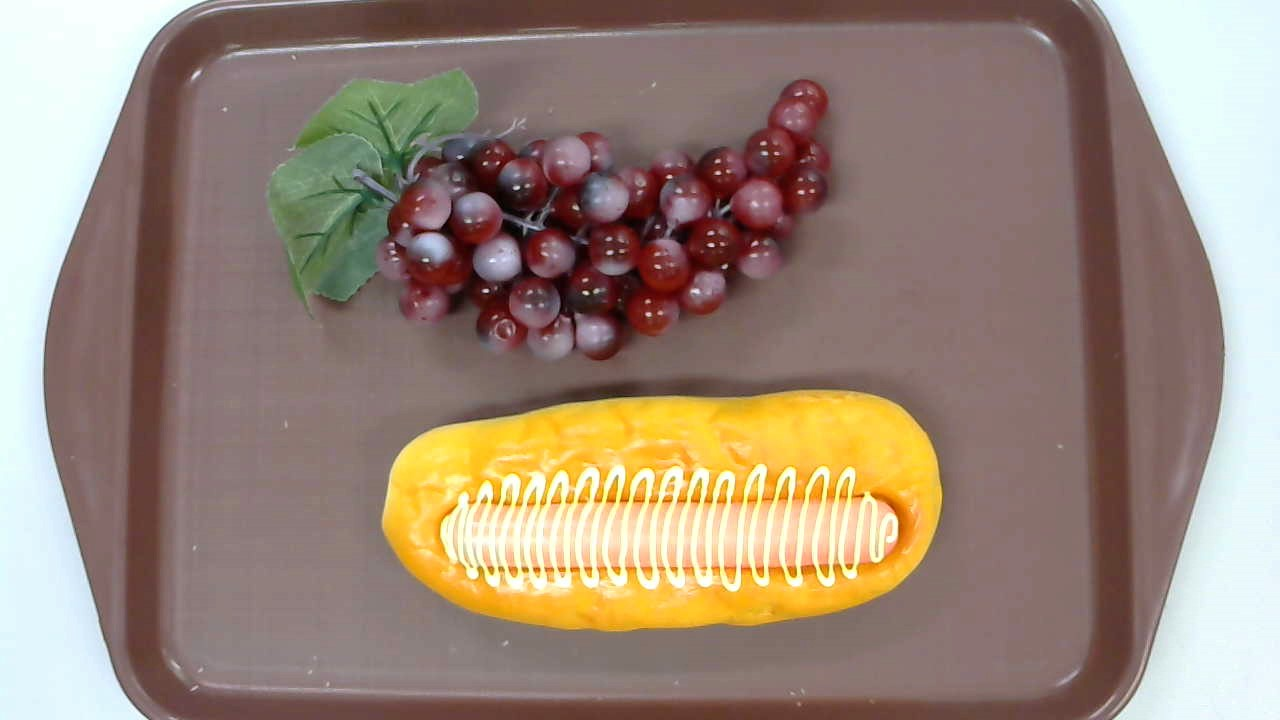grape: (265, 66, 829, 363)
hot dog: (380, 390, 943, 633)
